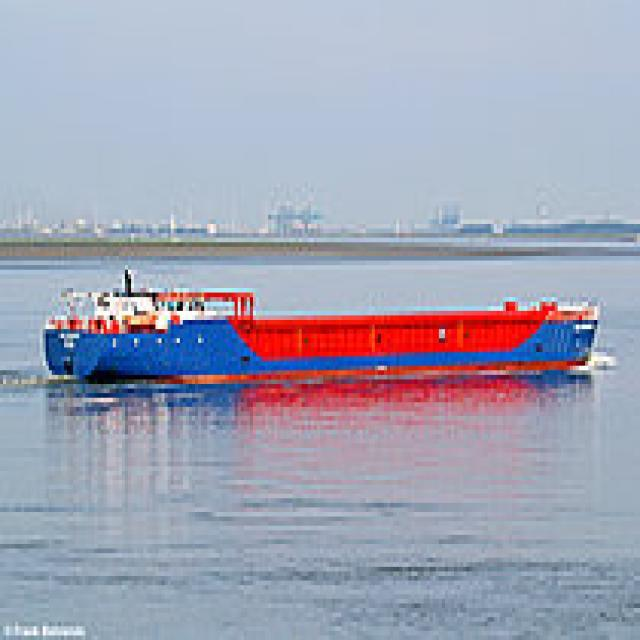Ship: (35, 257, 611, 412)
